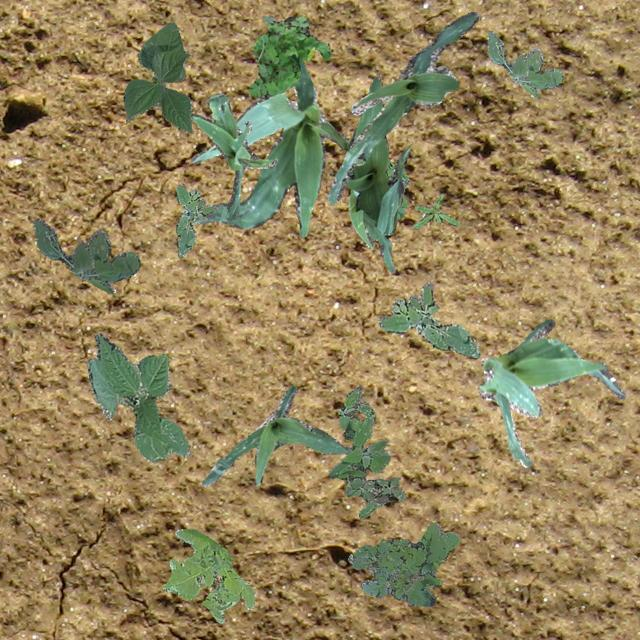crop: (190, 14, 348, 236), (327, 11, 478, 204), (476, 318, 626, 466), (200, 384, 352, 486), (86, 332, 190, 462), (190, 92, 276, 220), (344, 75, 408, 236), (122, 20, 192, 132), (348, 188, 394, 272)
weed: (328, 384, 404, 518), (346, 522, 458, 606), (162, 528, 254, 622), (32, 218, 138, 292), (378, 280, 478, 358), (247, 15, 331, 99), (486, 29, 562, 96), (366, 158, 408, 240), (174, 182, 217, 256), (412, 192, 458, 228)
